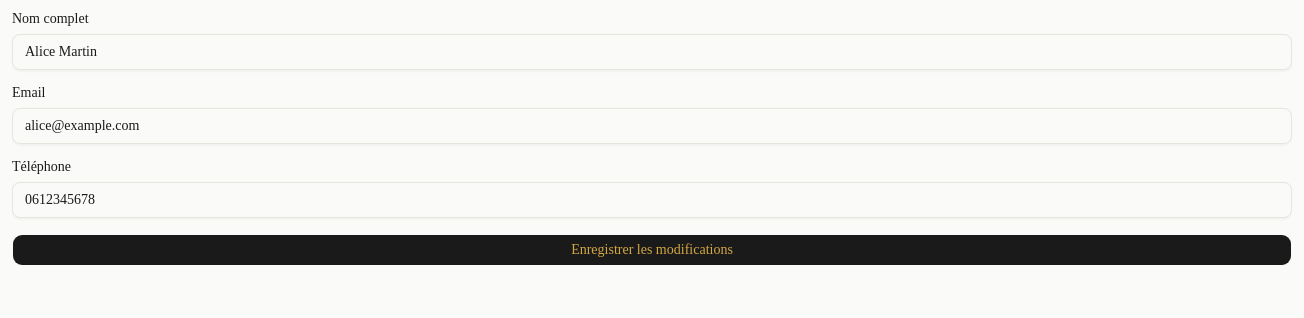
<ProfileForm> › displays the error returned by the action
Click the button "Enregistrer les modifications" at [652, 250], box [12,234,1292,266]
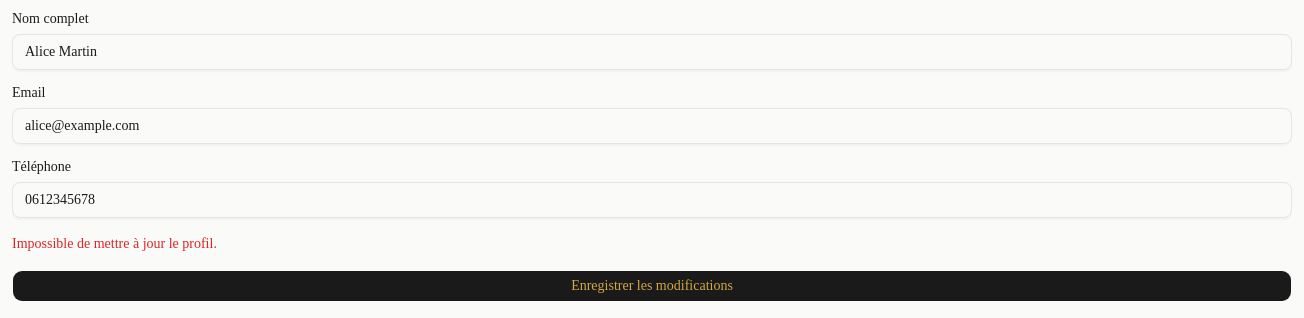
expect the message reads "Impossible de mettre à jour le profil.": met, box [12,236,217,251]
